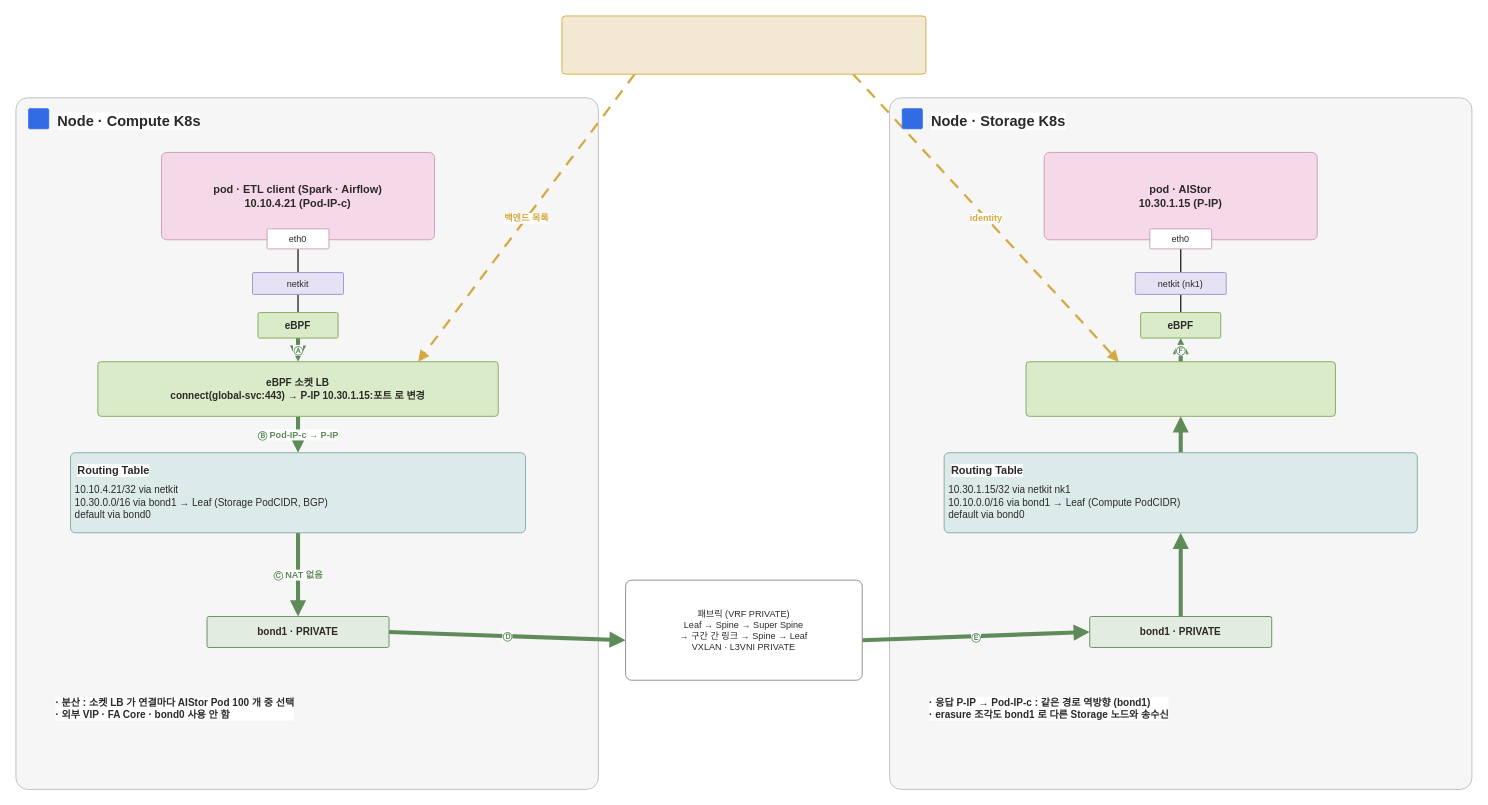
This 1488x805 diagram has some shape labels left out. The centre of each missing label's shape, as x and y in pixels:
"ClusterMesh (KVStoreMesh) global-svc 백엔드 = 원격 AIStor Pod · identity 동기화" belongs at (x=743, y=44).
"eBPF host routing · 정책 확인 (원격 identity : ClusterMesh)" belongs at (x=1180, y=388).
